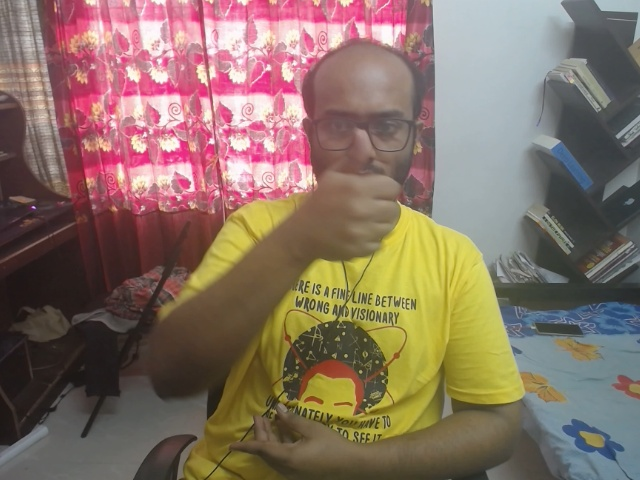six: (300, 120, 421, 280)
